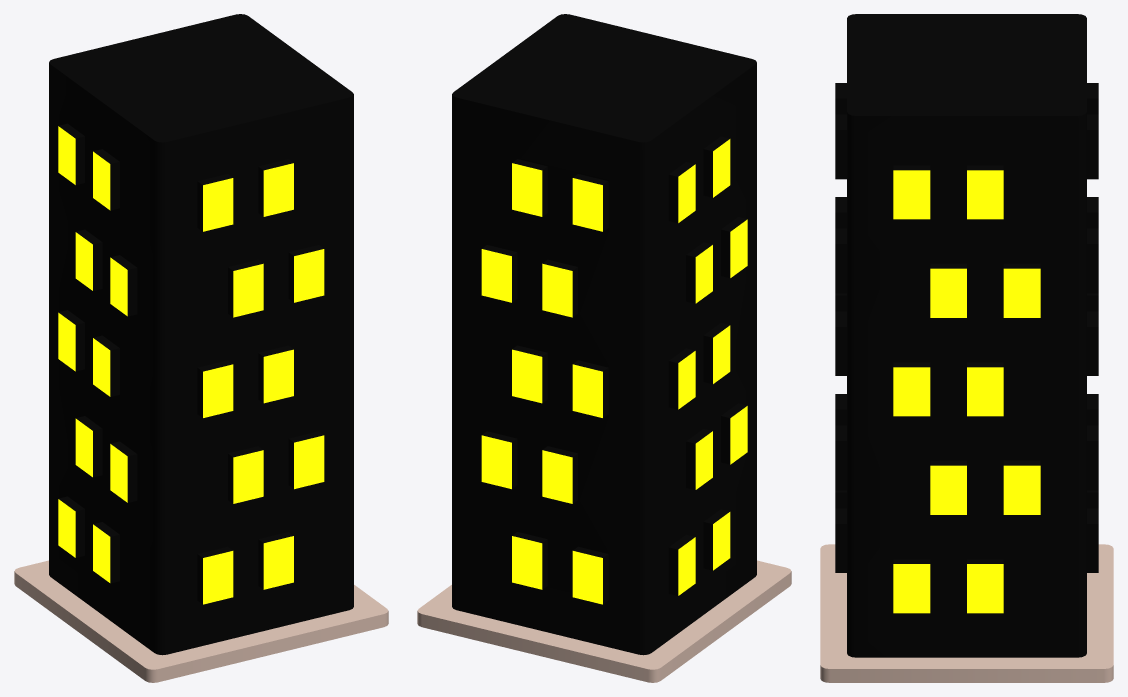
Rendered from Building.fbx.
The picture shows the model from 3 angles, left to right: view 1: azimuth 30°, elevation 25°; view 2: azimuth 150°, elevation 25°; view 3: azimuth 270°, elevation 25°; orthographic projection. The views are drawn at different scales.
Visible parts, largest first — view 1: Cube; view 2: Cube; view 3: Cube.
Part boxes in pixels (<box>): Cube: <box>14,14,388,682</box>; Cube: <box>417,14,791,682</box>; Cube: <box>820,14,1113,682</box>.
Size of the model in its own units: 1381 by 2868 by 1371.
